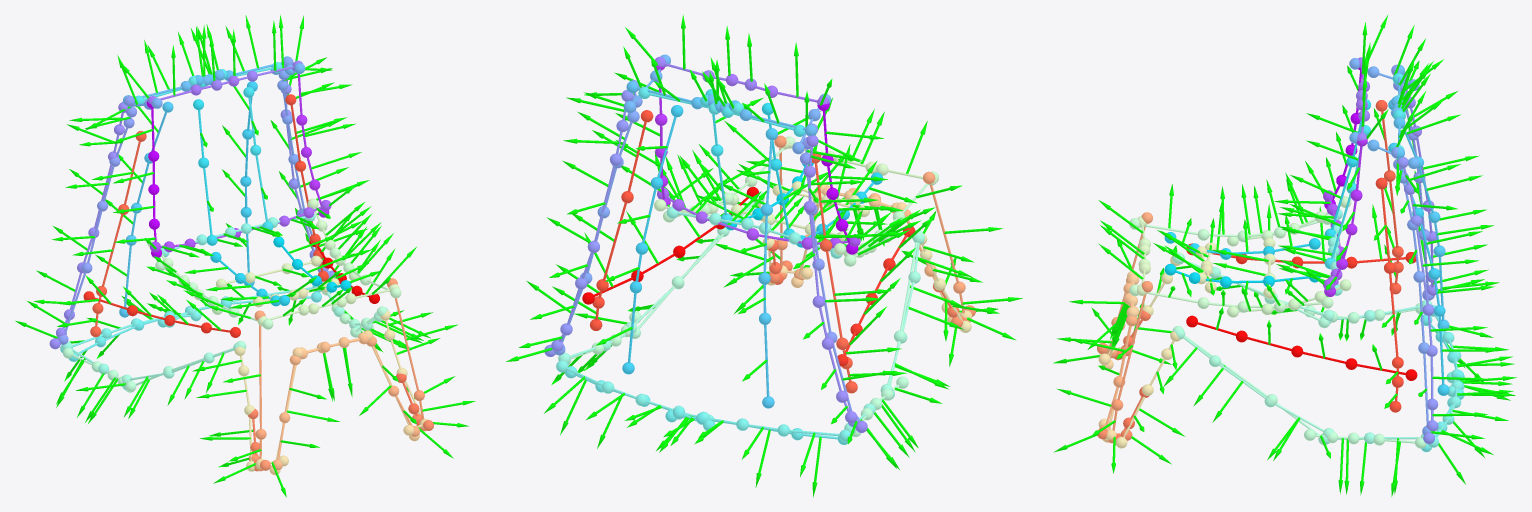
Rendered from author1_chair_ff.gltf.
3 views of the same model, side by side, from view 1: azimuth 30°, elevation 25°; view 2: azimuth 150°, elevation 25°; view 3: azimuth 270°, elevation 25° (orthographic). The views are drawn at different scales.
Bounding box in the file's own units: 0.6855 × 0.7063 × 0.7838.
